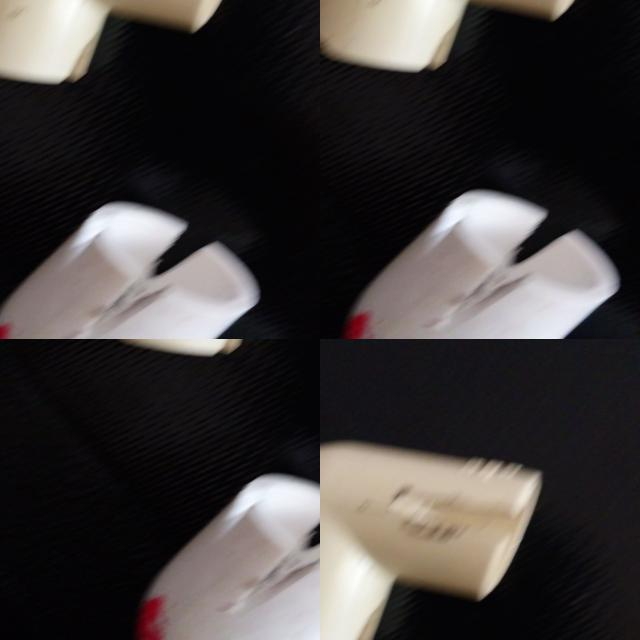Defective: (11, 339, 131, 388), (116, 482, 180, 548), (65, 476, 144, 528), (227, 407, 301, 443), (282, 404, 317, 434)
L Joint: (0, 339, 223, 570), (320, 437, 549, 640)
T Joint: (215, 339, 320, 476)
